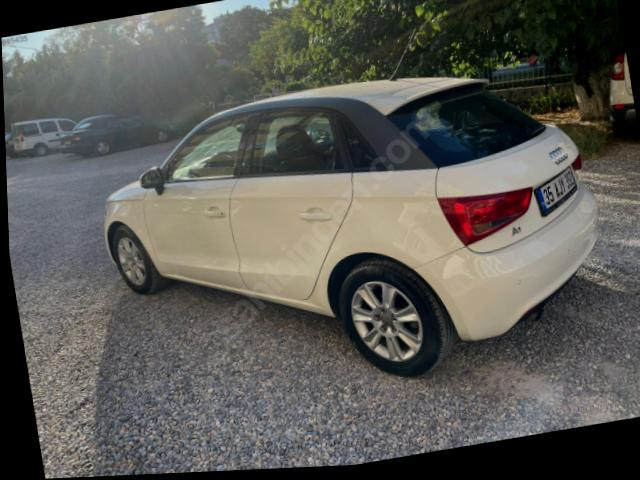plaka: (534, 167, 576, 215)
